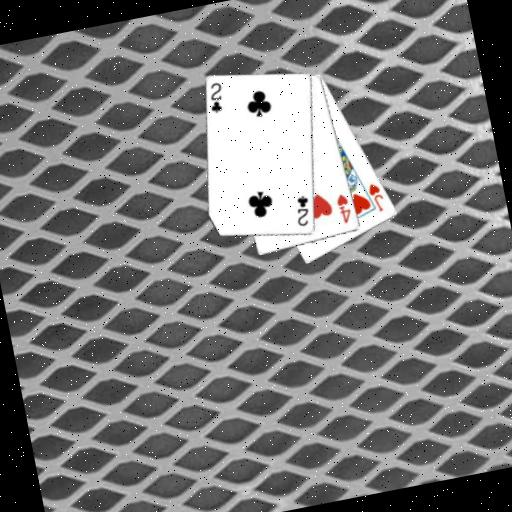2C: (290, 192, 315, 230), (204, 79, 229, 116)
4H: (332, 191, 355, 227)
JH: (364, 179, 388, 215)
